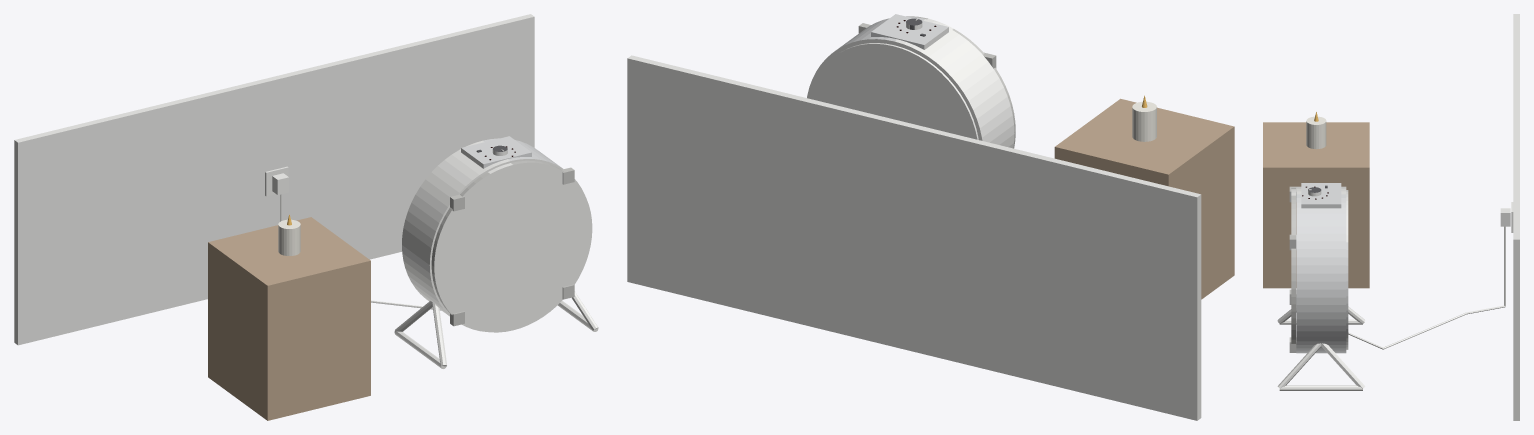
The picture shows the model from 3 angles, left to right: view 1: azimuth 30°, elevation 25°; view 2: azimuth 150°, elevation 25°; view 3: azimuth 270°, elevation 25°; orthographic projection. The views are drawn at different scales.
Visible parts, largest first — view 1: Wall, SideTable, FrontCover, Body, Leg_R, Candle, Leg_L; view 2: Wall, Body, SideTable, Candle, FrontCover; view 3: SideTable, Body, Wall, Leg_L, FrontCover, Candle, Cable, Leg_R.
Part boxes in pixels (x1=…): Wall: x1=14, y1=14, x2=534, y2=345; SideTable: x1=208, y1=217, x2=370, y2=420; FrontCover: x1=431, y1=160, x2=592, y2=332; Body: x1=402, y1=136, x2=584, y2=331; Leg_R: x1=394, y1=301, x2=447, y2=368; Candle: x1=278, y1=219, x2=300, y2=255; Leg_L: x1=557, y1=291, x2=598, y2=331; Wall: x1=627, y1=55, x2=1201, y2=420; Body: x1=807, y1=14, x2=1014, y2=148; SideTable: x1=1054, y1=98, x2=1234, y2=299; Candle: x1=1132, y1=101, x2=1156, y2=141; FrontCover: x1=858, y1=16, x2=1015, y2=148; SideTable: x1=1263, y1=122, x2=1369, y2=288; Body: x1=1296, y1=183, x2=1348, y2=353; Wall: x1=1511, y1=14, x2=1519, y2=420; Leg_L: x1=1277, y1=343, x2=1365, y2=390; FrontCover: x1=1289, y1=186, x2=1296, y2=352; Candle: x1=1306, y1=116, x2=1326, y2=149; Cable: x1=1348, y1=226, x2=1505, y2=349; Leg_R: x1=1277, y1=305, x2=1365, y2=324.
Bounding box in the file's own units: 1.6 × 0.601 × 0.77.
